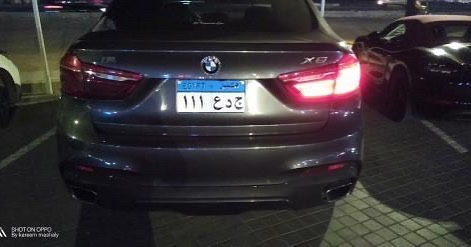carpl: (175, 90, 247, 111)
